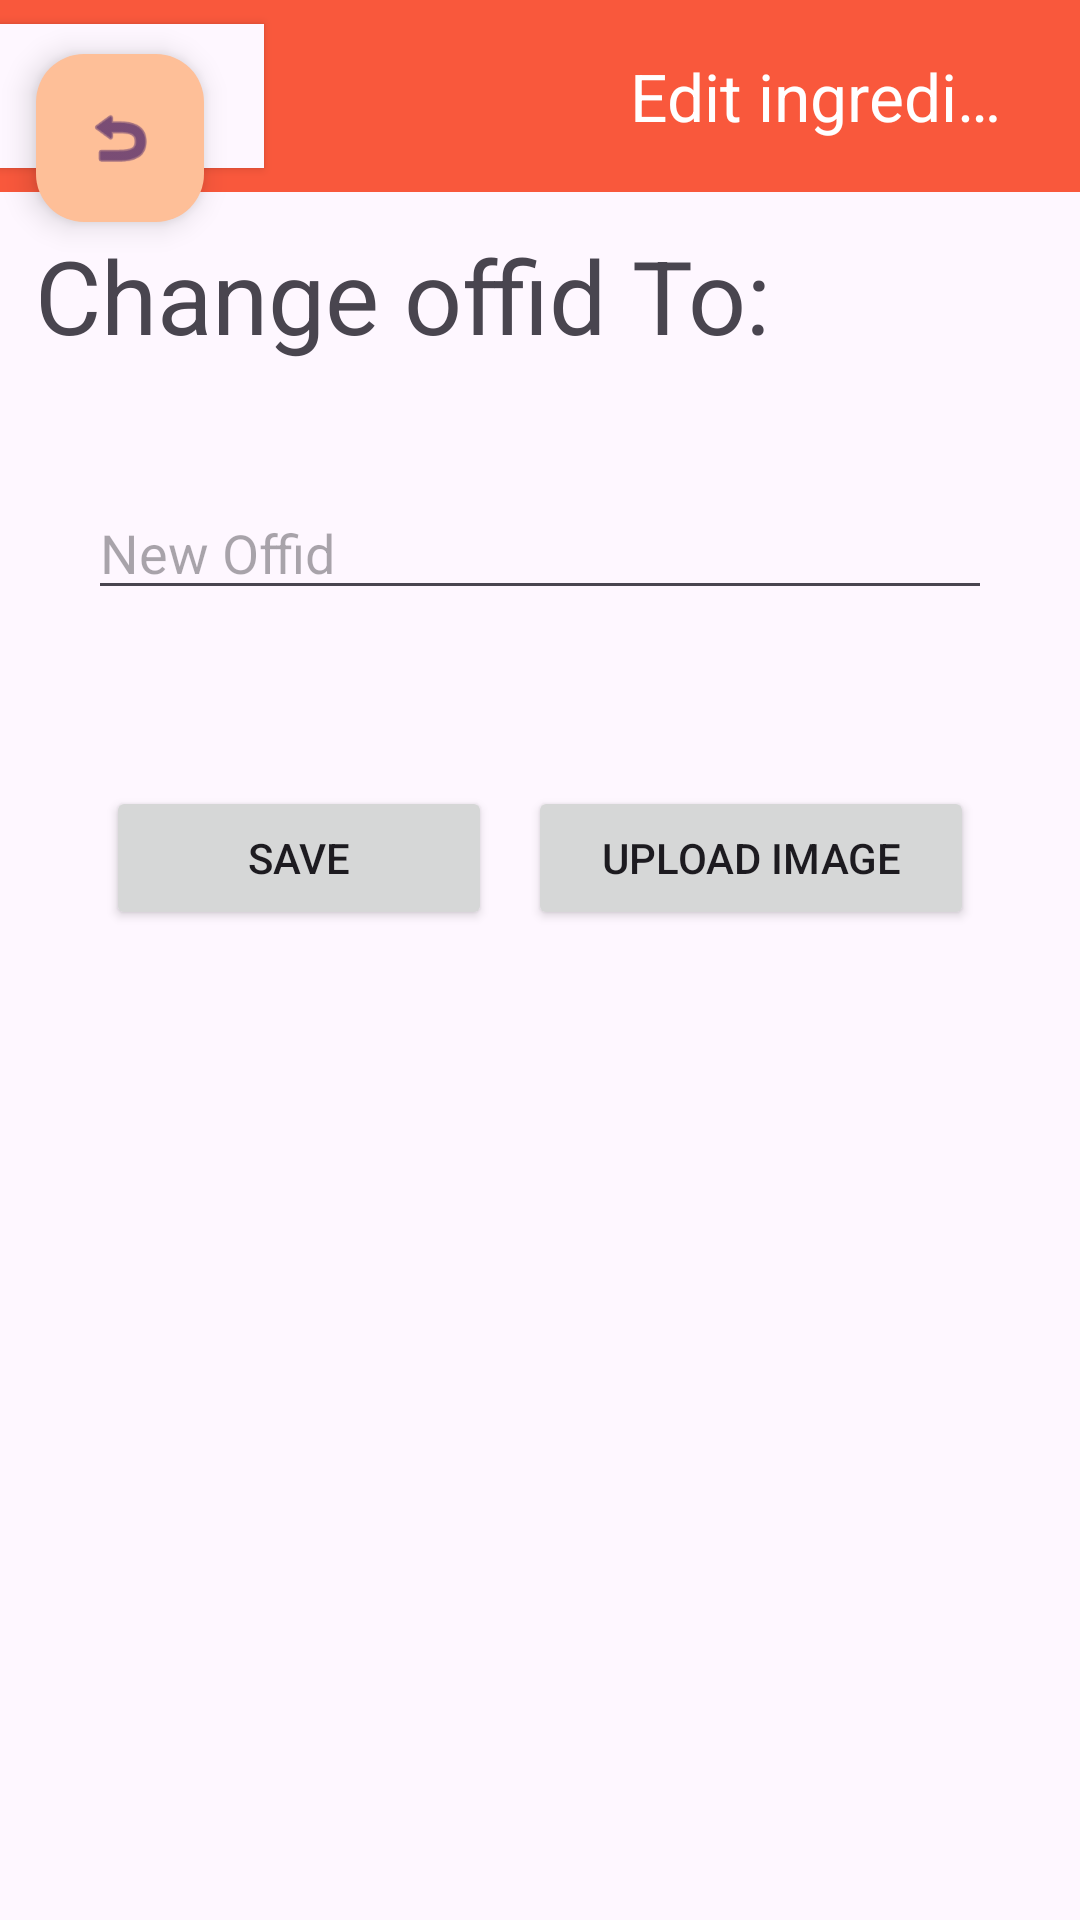

Screen size 1080w x 1920h. Icon name, then its center in pixels as point (x, y):
Return to previous screen: point (120, 138)
